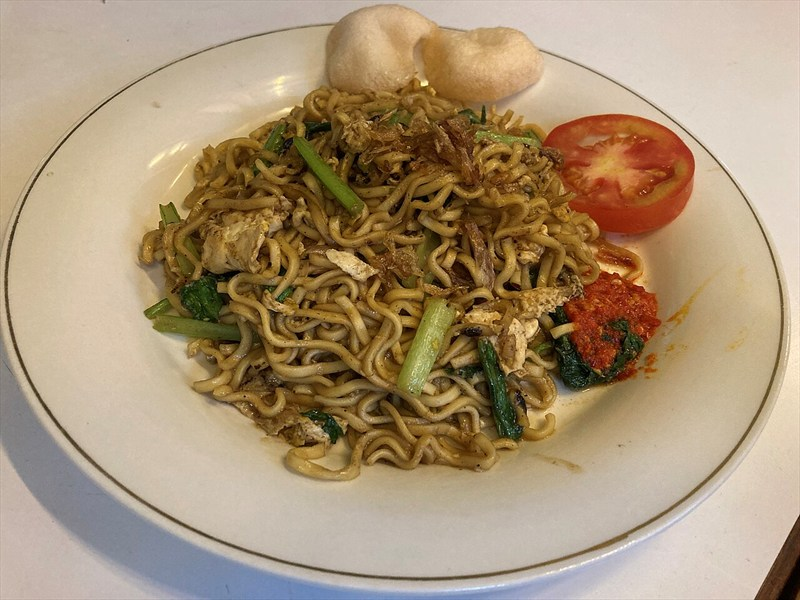Mie Goreng: (167, 99, 663, 461)
